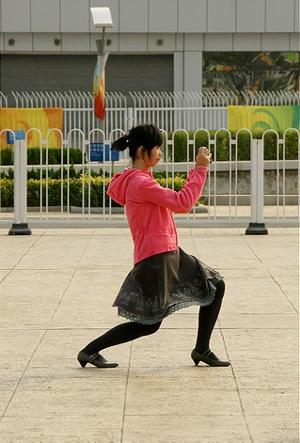person: (77, 124, 231, 371)
